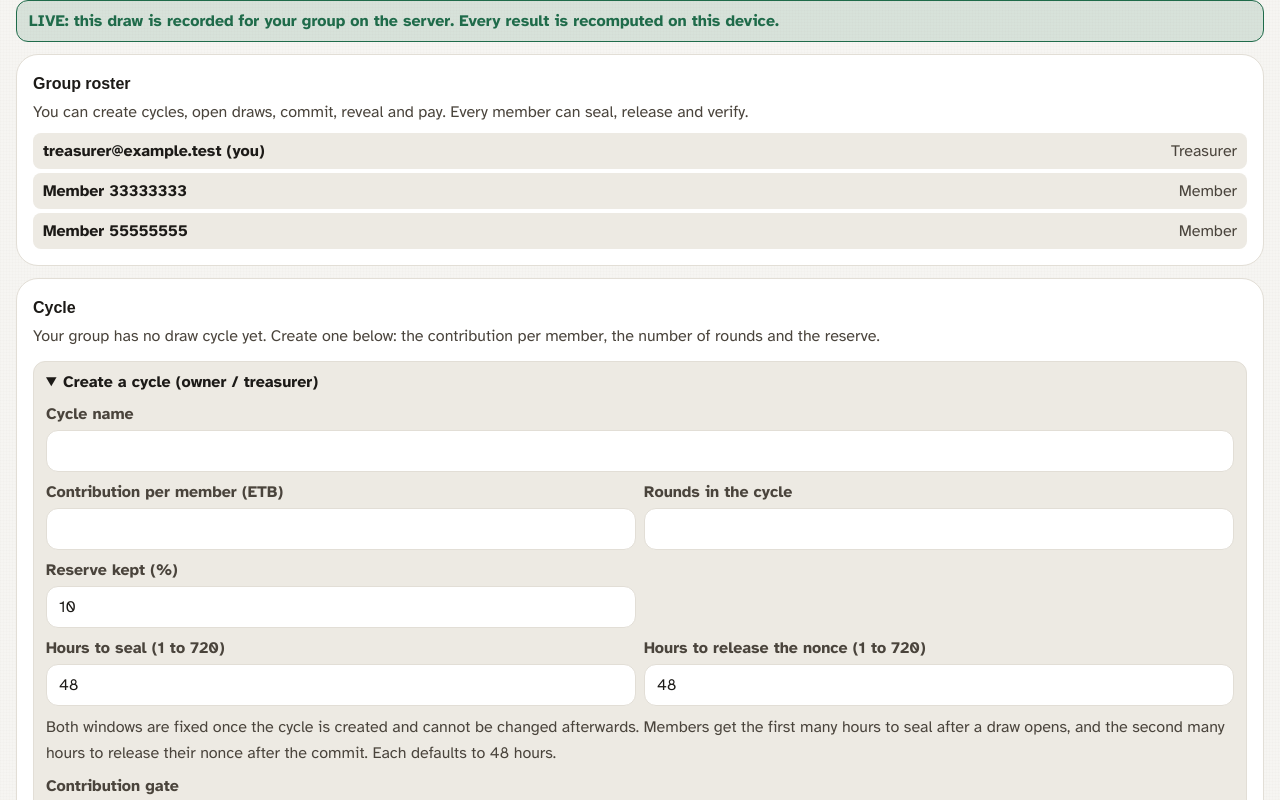
Test case: signed in: cycles › sends the seal and nonce-release windows the treasurer typed, and says they are fixed once created
Expected: the text with test id "cycle-windows-hint" shows "fixed once the cycle is created", [46, 717, 1225, 763]
Expected: the field with test id "cycle-nonce-window" holds "48", [644, 664, 1234, 706]
Replace the text in the field with test id "cycle-seal-window" with "24". click: (341, 685)
box: [46, 664, 636, 706]
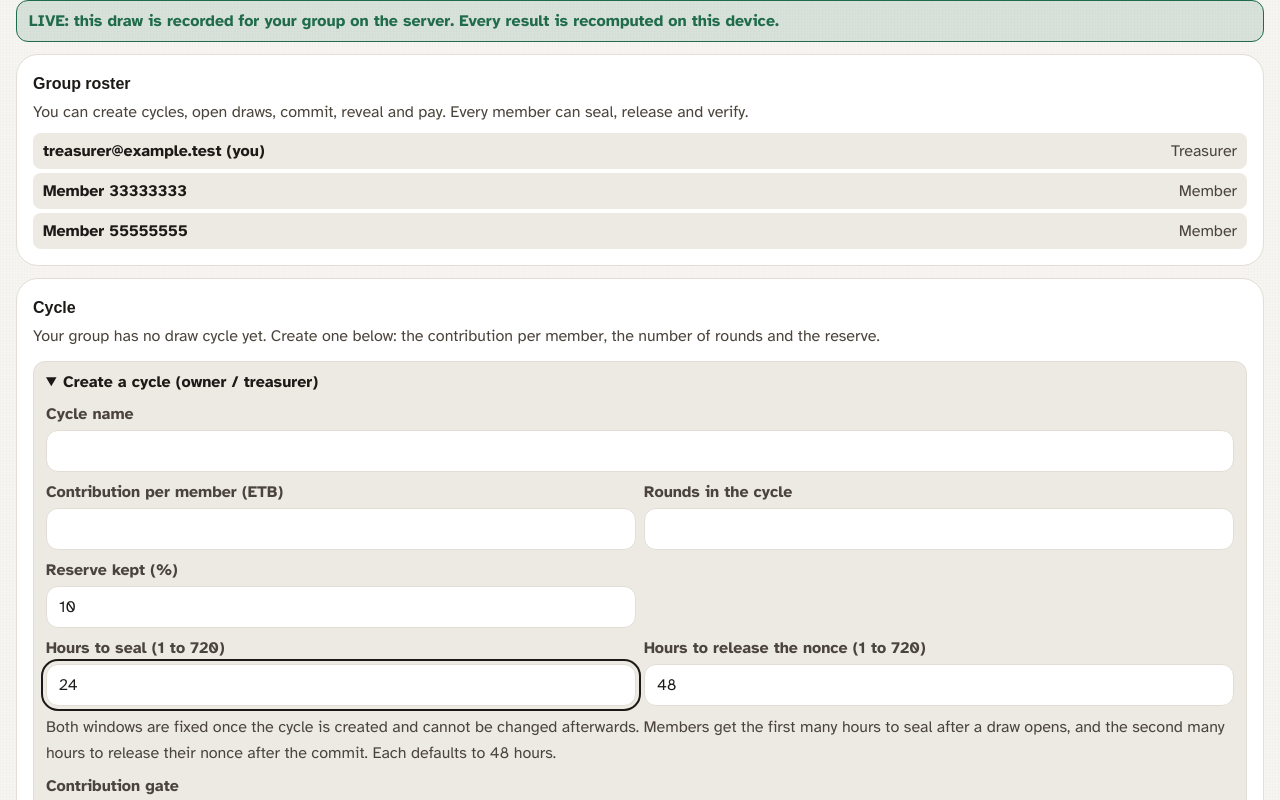
Replace the text in the field with test id "cycle-nonce-window" with "72". click: (939, 685)
box: [644, 664, 1234, 706]
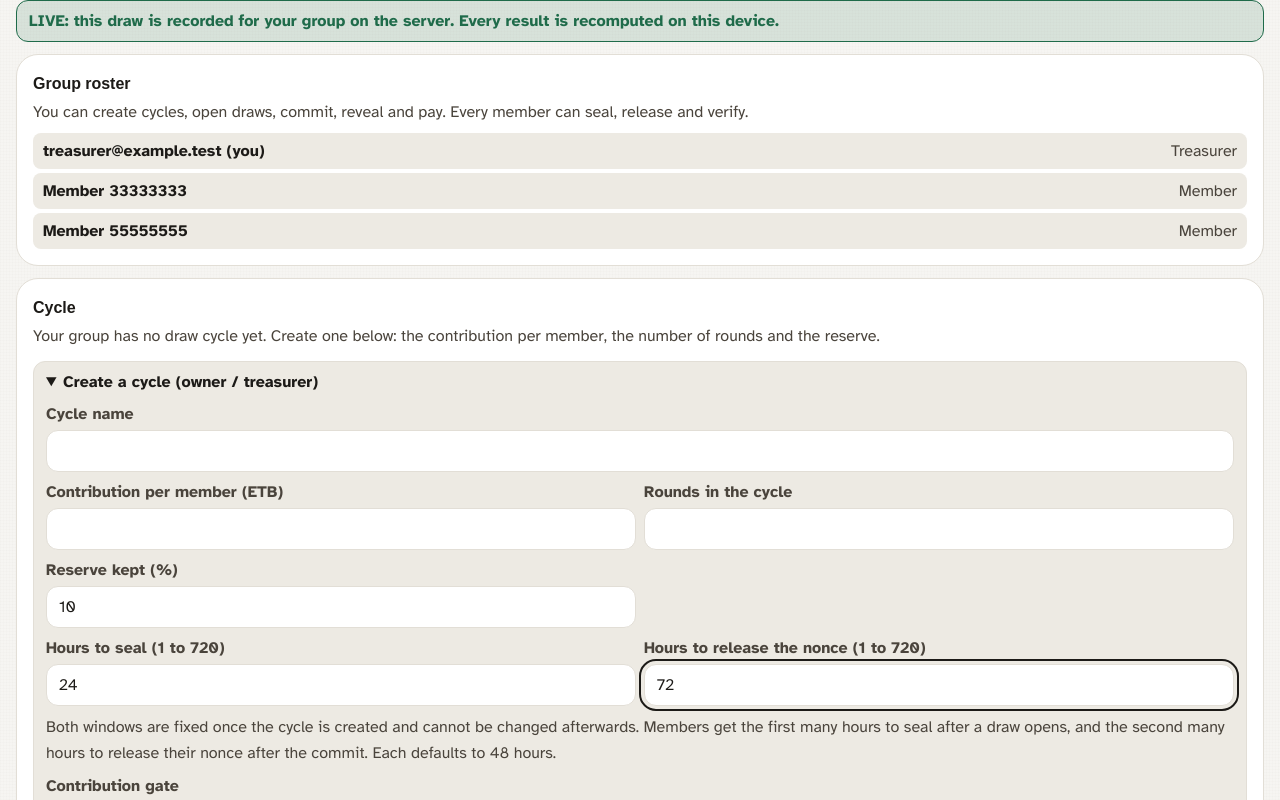
Type "Windows" into the field labelled "Cycle name". click: (640, 451)
box: [46, 430, 1234, 472]
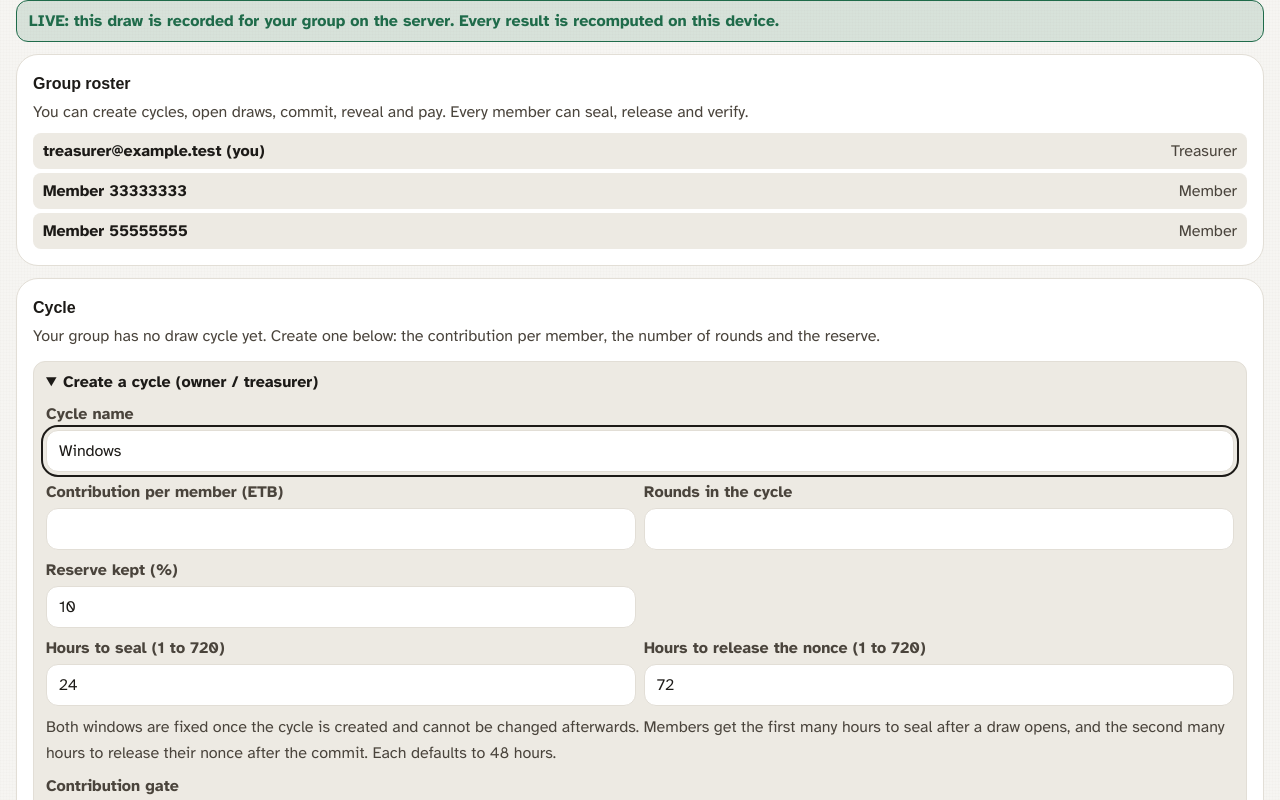
Type "1000" into the field labelled "Contribution per member (ETB)". click: (341, 529)
box: [46, 508, 636, 550]
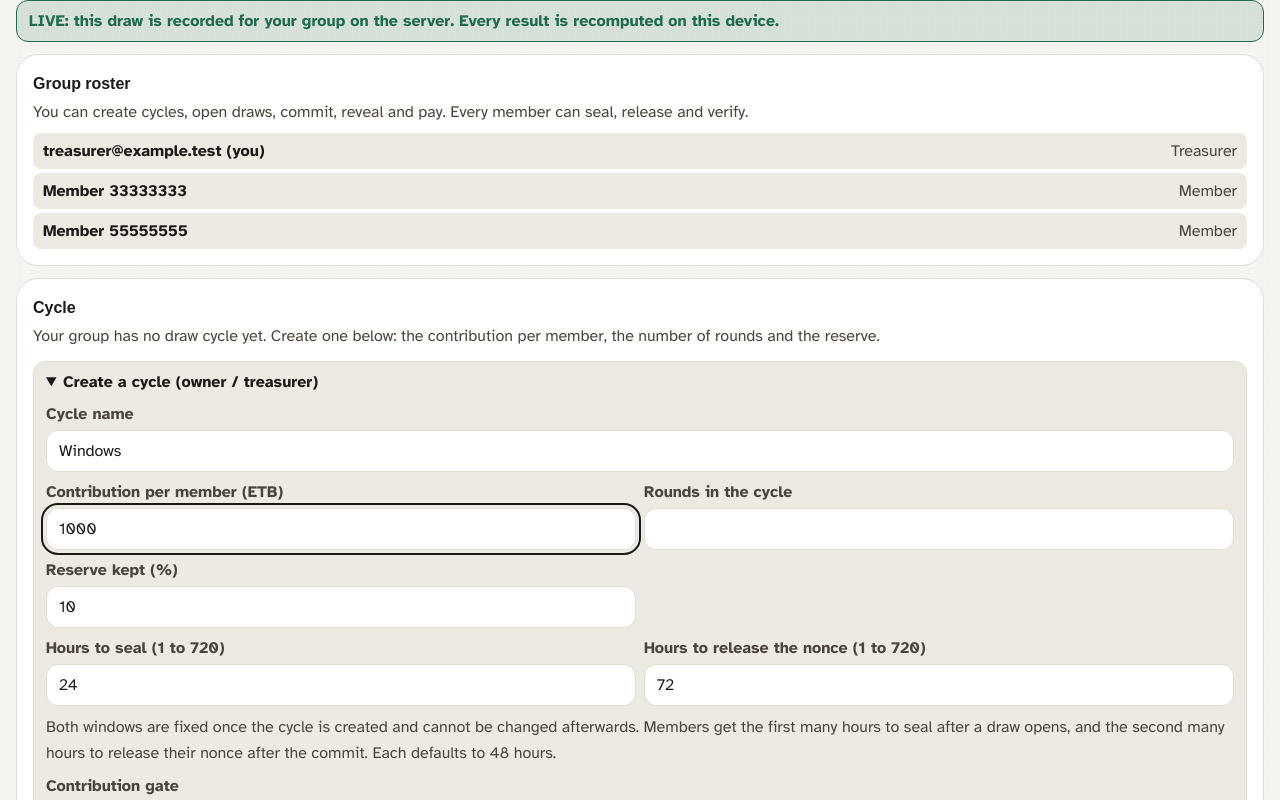
Type "3" into the field labelled "Rounds in the cycle". click: (939, 529)
box: [644, 508, 1234, 550]
(page scrolled)
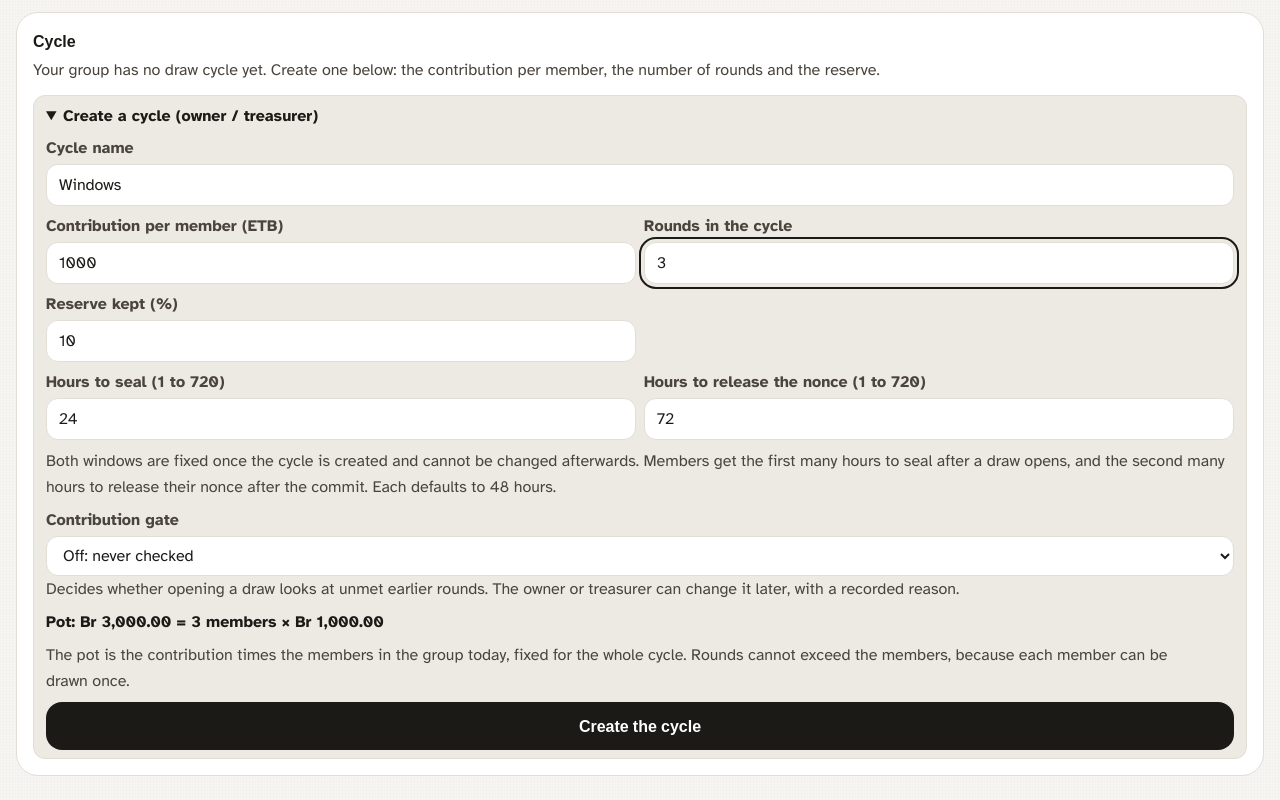
Click the button "Create the cycle". click: click(640, 726)
box: [46, 702, 1234, 750]
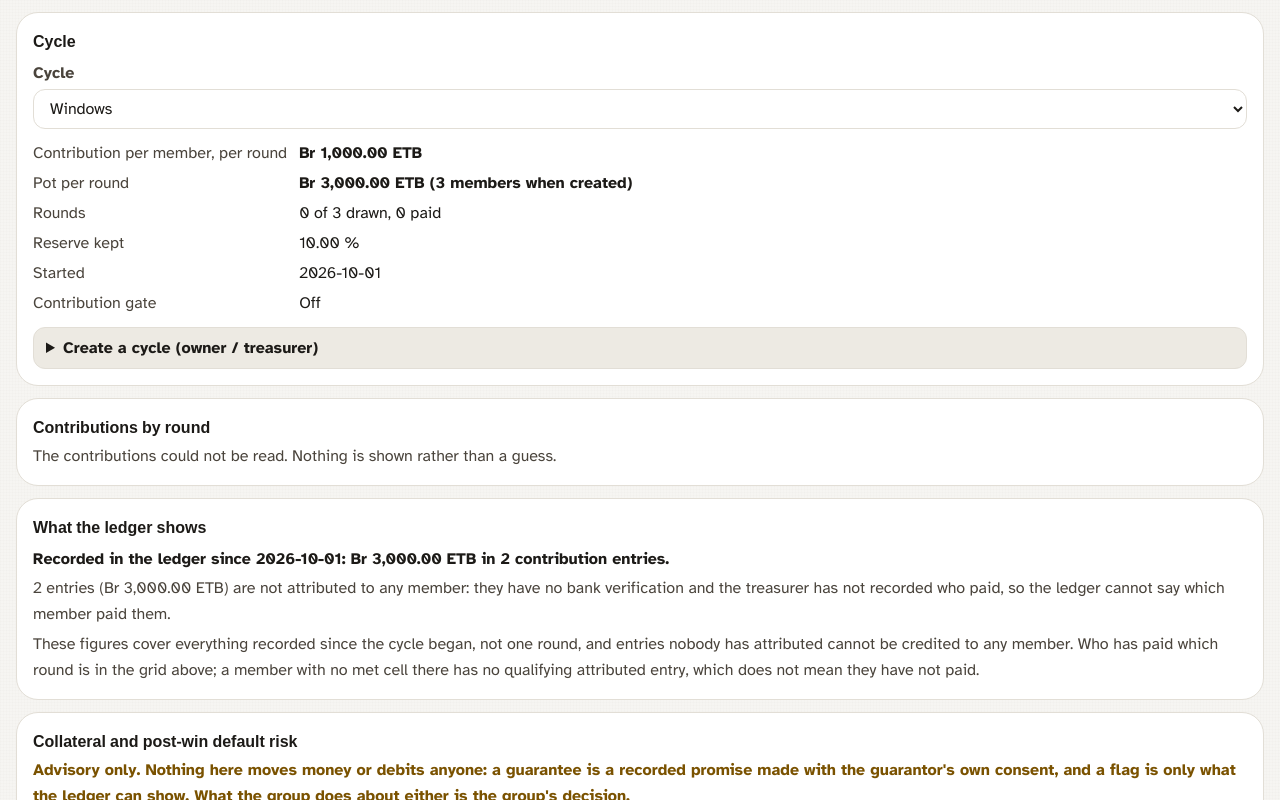
Now the text with test id "cycle-pot" shows "Br 3,000.00", box [299, 173, 390, 193]
